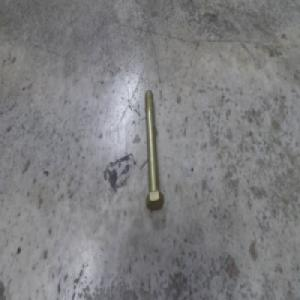Bolt: (143, 89, 165, 211)
